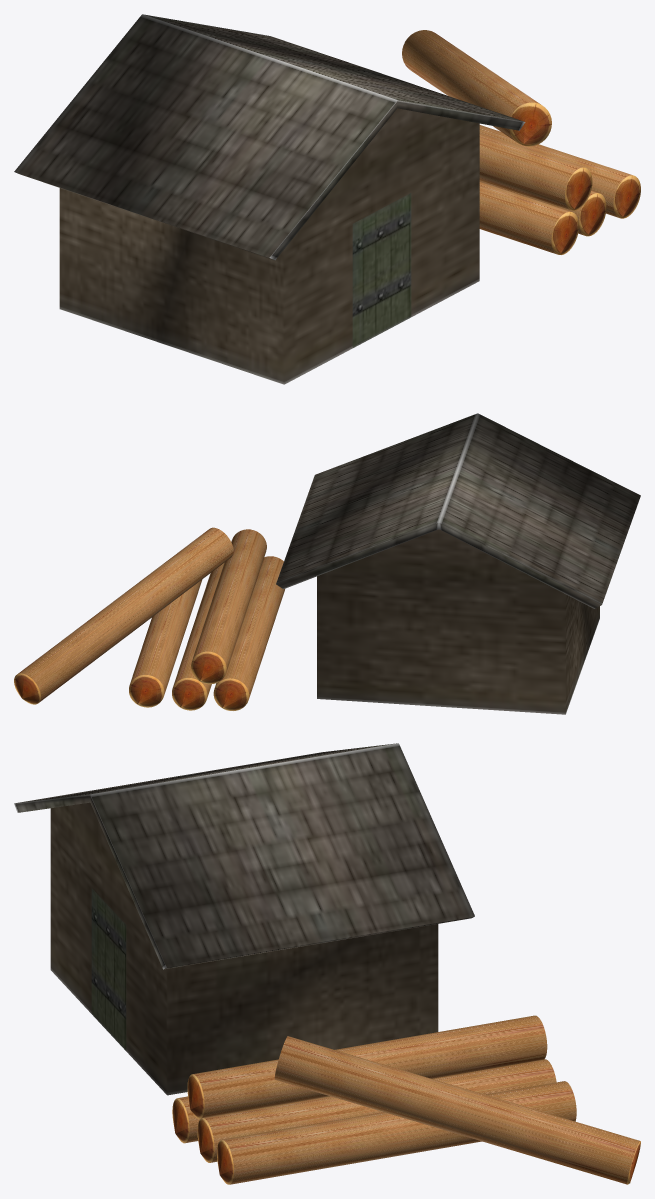
Rendered from saw.fbx.
The picture shows the model from 3 angles, top to bottom: view 1: azimuth 30°, elevation 25°; view 2: azimuth 150°, elevation 25°; view 3: azimuth 270°, elevation 25°; orthographic projection. The views are drawn at different scales.
Visible parts, largest first — view 1: Do_Strecha, Do_Steny, Do_Dvere, poleno3.004, poleno3.003, poleno3.002, poleno3, poleno3.001; view 2: Do_Steny, Do_Strecha, poleno3.004, poleno3.003, poleno3.002, poleno3, poleno3.001; view 3: Do_Strecha, Do_Steny, poleno3.004, poleno3.003, poleno3, poleno3.001, Do_Dvere, poleno3.002.
Boxes of the visible parts, box(x1,y1,x2,y2) form: Do_Strecha: box(14, 14, 525, 260); Do_Steny: box(59, 108, 479, 384); Do_Dvere: box(352, 193, 411, 347); poleno3.004: box(402, 30, 551, 146); poleno3.003: box(479, 133, 592, 210); poleno3.002: box(479, 182, 578, 254); poleno3: box(479, 125, 640, 218); poleno3.001: box(479, 180, 606, 236); Do_Steny: box(317, 529, 599, 714); Do_Strecha: box(276, 413, 640, 608); poleno3.004: box(14, 527, 233, 704); poleno3.003: box(191, 529, 266, 684); poleno3.002: box(213, 556, 284, 710); poleno3: box(129, 579, 202, 707); poleno3.001: box(172, 563, 224, 710); Do_Strecha: box(14, 743, 474, 969); Do_Steny: box(50, 802, 438, 1095); poleno3.004: box(274, 1036, 640, 1184); poleno3.003: box(187, 1015, 547, 1119); poleno3: box(217, 1081, 576, 1184); poleno3.001: box(197, 1059, 556, 1162); Do_Dvere: box(91, 888, 126, 1050); poleno3.002: box(172, 1096, 199, 1143).
Size of the model in its own units: 157 by 61.74 by 144.
Materials: 2 (2 with a texture image).
